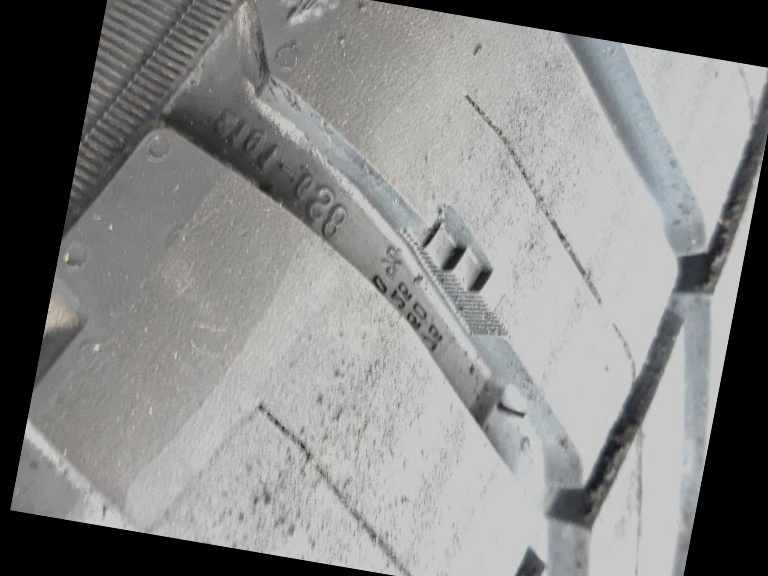temoin:75: (381, 192, 526, 324)
